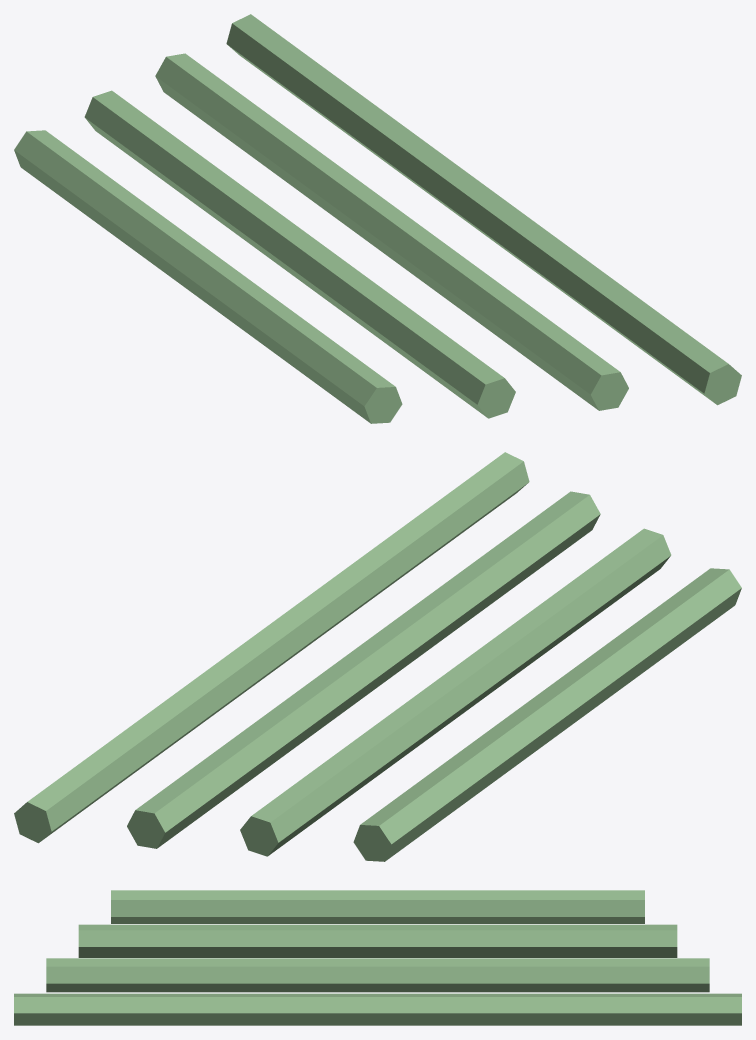
File: eelgrass.glb
3 renders of one model, top to bottom at view 1: azimuth 30°, elevation 25°; view 2: azimuth 150°, elevation 25°; view 3: azimuth 270°, elevation 25°, orthographic. The views are drawn at different scales.
Visible parts, largest first — view 1: world; view 2: world; view 3: world.
Boxes of the visible parts, x1=… form: world: x1=14, y1=14, x2=741, y2=423; world: x1=14, y1=452, x2=741, y2=861; world: x1=14, y1=890, x2=741, y2=1025.
Size of the model in its own units: 0.5686 by 0.0669 by 1.5.
